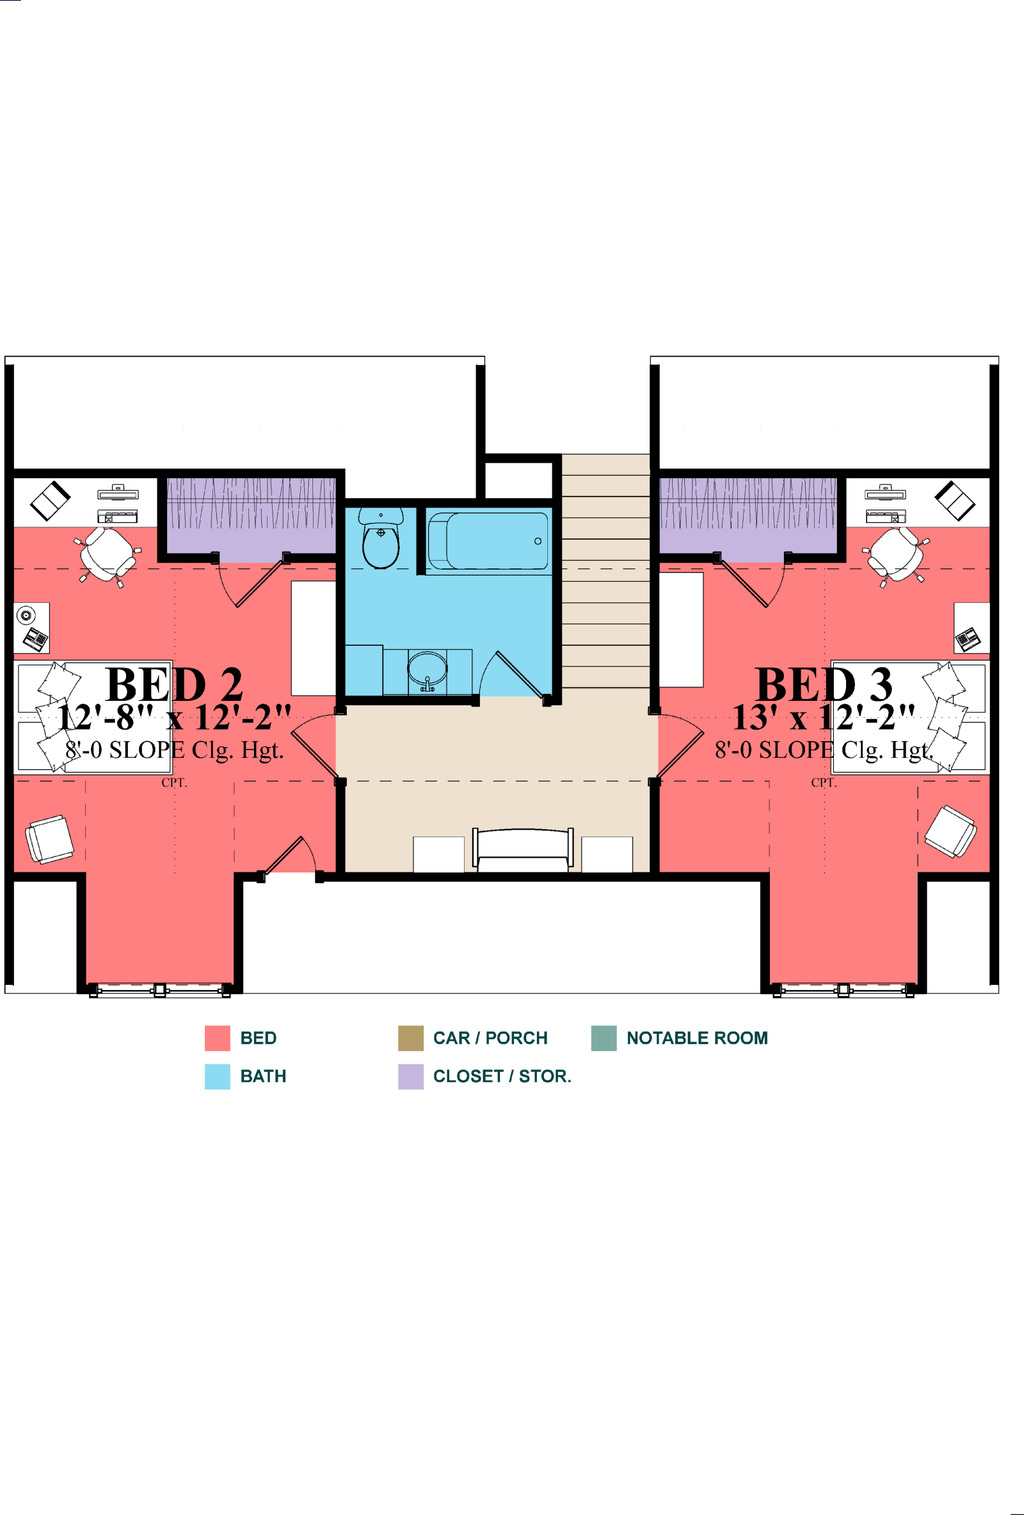door: (205, 550, 295, 607), (651, 705, 709, 784), (283, 710, 341, 786), (721, 547, 789, 607), (261, 832, 325, 885)
large_sink: (346, 502, 411, 582)
small_sink: (379, 644, 467, 705)
stairs: (555, 440, 663, 697)
tub: (425, 505, 546, 582)
